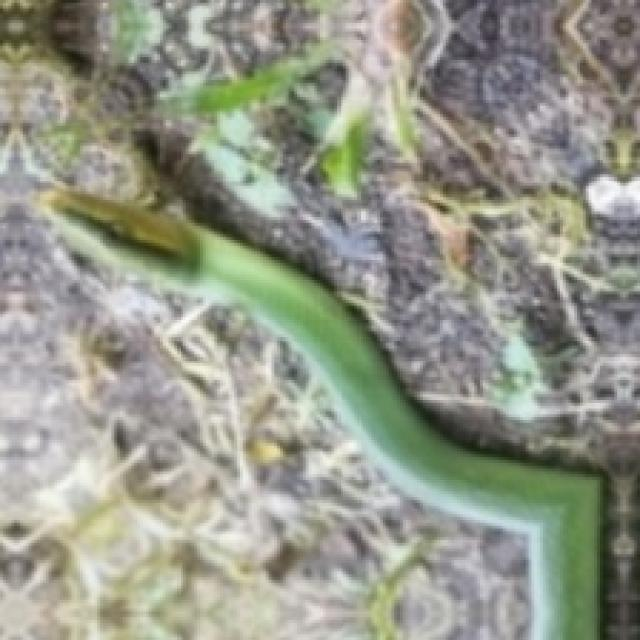red-tailed green ratsnake: (42, 189, 598, 639), (50, 213, 600, 640)
